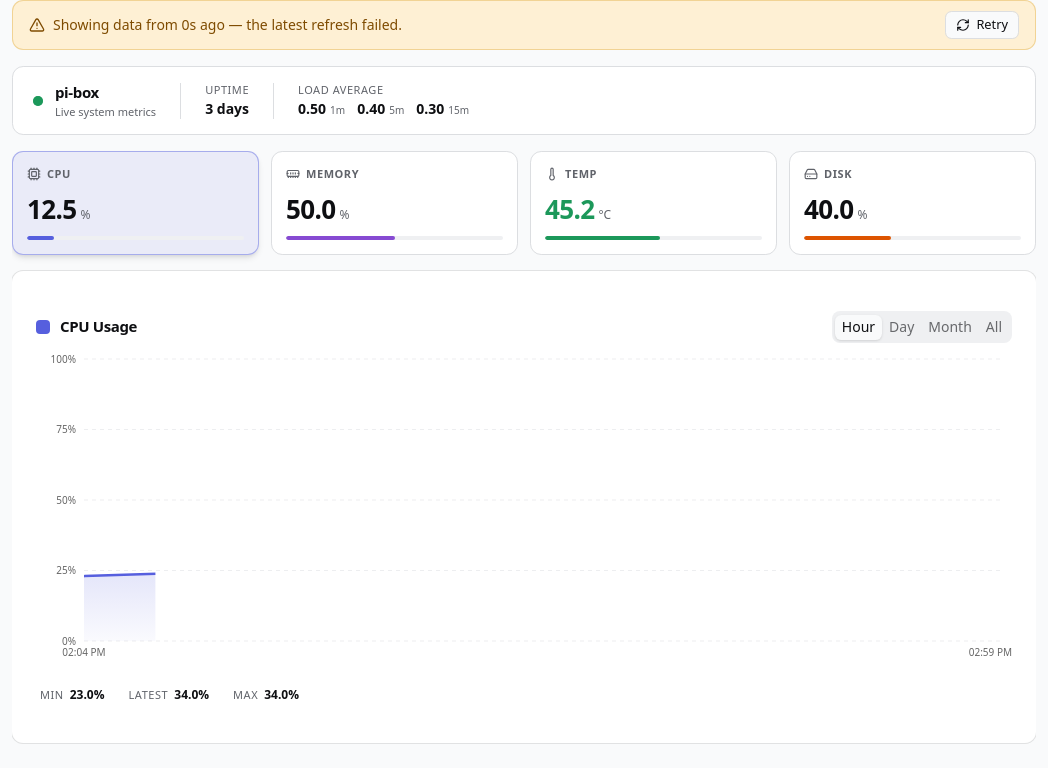
Test: PiHealthView › shows a stale banner with a working retry when refresh fails after success
Expected: the message reads "Showing data from 0s ago — the latest refresh failed. Retry", top-left (12, 0), bottom-right (1036, 50)
Click the button "Retry": coordinates (982, 25) top-left (945, 11), bottom-right (1019, 39)
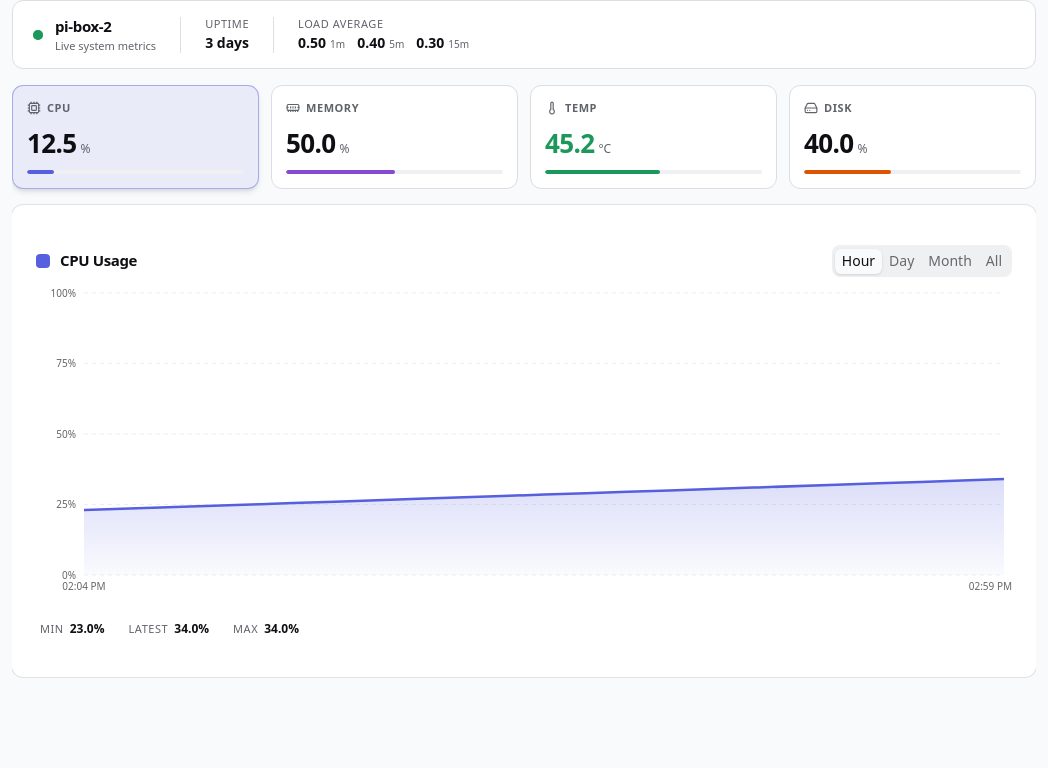
Now the text "pi-box-2" is shown, box top-left (55, 16), bottom-right (112, 36)
Now the message "Showing data from 0s ago — the latest refresh failed. Retry" is gone
